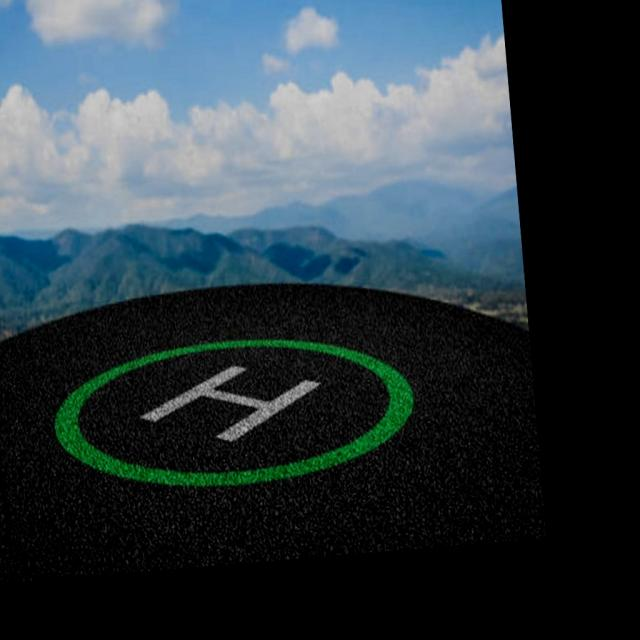helipad: (44, 324, 420, 502)
